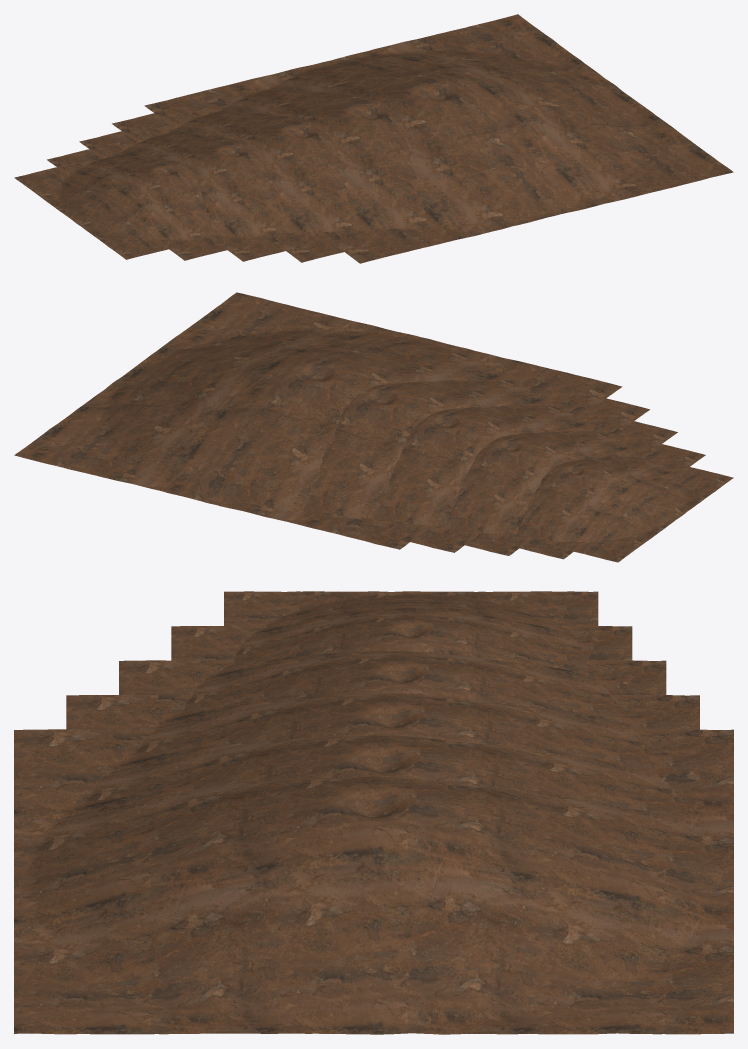
Rendered from hotspots.glb.
3 renders of one model, top to bottom at view 1: azimuth 30°, elevation 25°; view 2: azimuth 150°, elevation 25°; view 3: azimuth 270°, elevation 25°, orthographic. The views are drawn at different scales.
Visible parts, largest first — view 1: Hotspot_Shield_0, Hotspot_Shield_1, Hotspot_Shield_4, Hotspot_Shield_2, Hotspot_Shield_3; view 2: Hotspot_Shield_0, Hotspot_Shield_1, Hotspot_Shield_4, Hotspot_Shield_2, Hotspot_Shield_3; view 3: Hotspot_Shield_0, Hotspot_Shield_1, Hotspot_Shield_2, Hotspot_Shield_4, Hotspot_Shield_3.
Boxes of the visible parts, bbox=[...] form: Hotspot_Shield_0: bbox=[144, 14, 733, 263]; Hotspot_Shield_1: bbox=[112, 43, 444, 262]; Hotspot_Shield_4: bbox=[14, 154, 212, 259]; Hotspot_Shield_2: bbox=[79, 111, 360, 261]; Hotspot_Shield_3: bbox=[47, 132, 283, 260]; Hotspot_Shield_0: bbox=[14, 292, 622, 549]; Hotspot_Shield_1: bbox=[115, 378, 649, 552]; Hotspot_Shield_4: bbox=[516, 457, 733, 562]; Hotspot_Shield_2: bbox=[374, 403, 677, 555]; Hotspot_Shield_3: bbox=[444, 431, 705, 559]; Hotspot_Shield_0: bbox=[14, 729, 733, 1034]; Hotspot_Shield_1: bbox=[66, 694, 699, 962]; Hotspot_Shield_2: bbox=[119, 660, 666, 769]; Hotspot_Shield_4: bbox=[224, 591, 598, 673]; Hotspot_Shield_3: bbox=[171, 626, 632, 722].
Bounding box in the file's own units: 11.29 × 2.55 × 7.75.
Materials: 2 (1 with a texture image).
